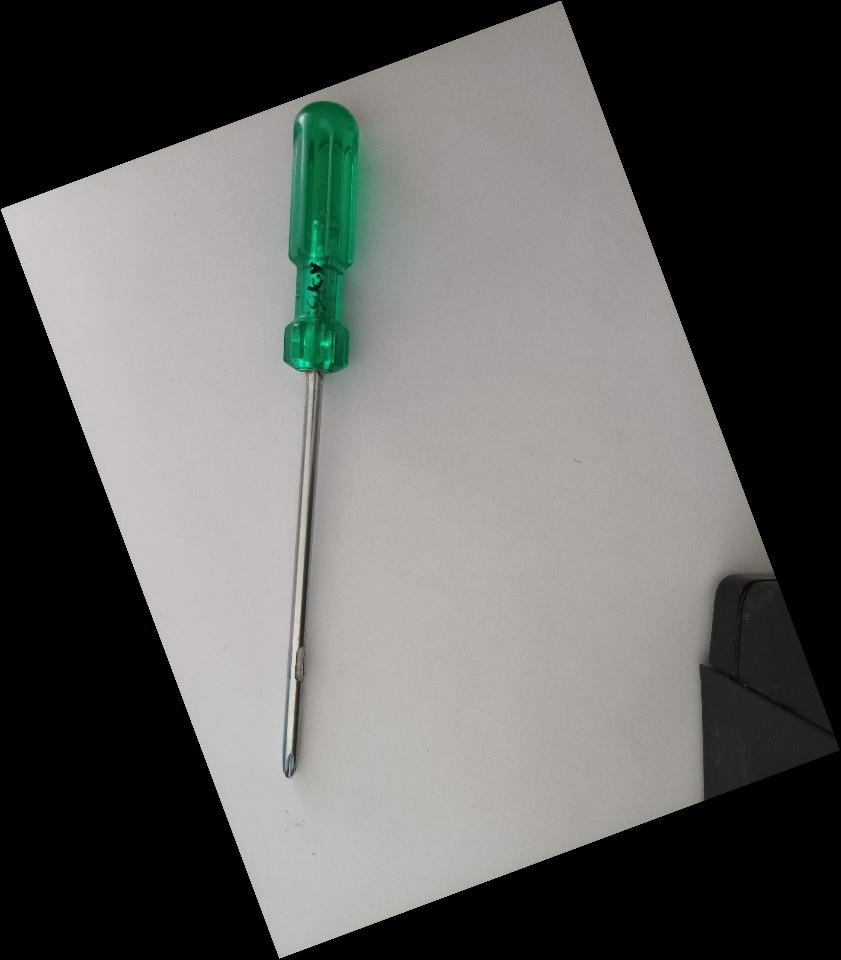screwdriver: (279, 96, 362, 780)
